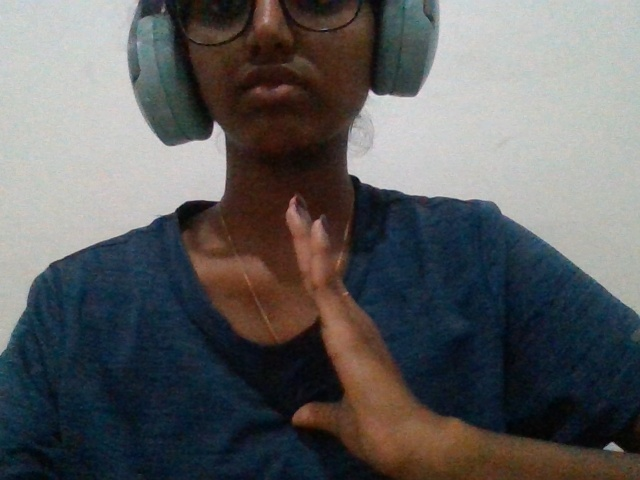Fine: (247, 182, 483, 474)
